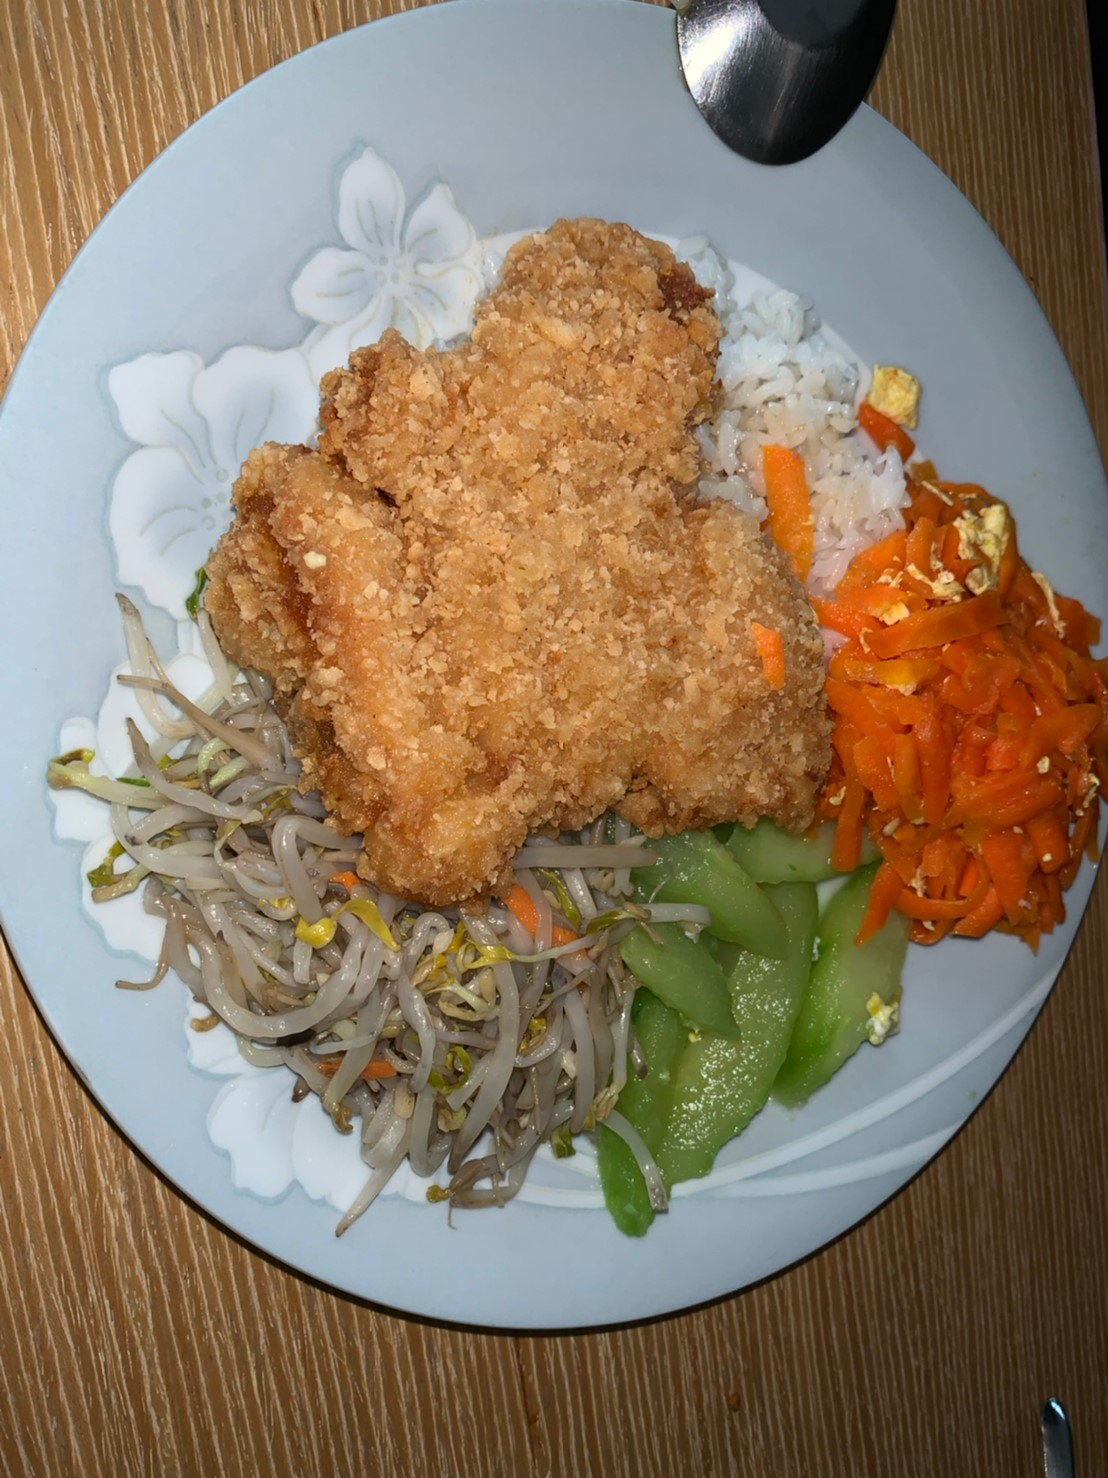carrot_eggs: (828, 486, 1108, 941)
fried_chicken: (208, 220, 829, 888)
mung_bean_sprouts: (162, 831, 622, 1152)
rice: (682, 277, 899, 592)
